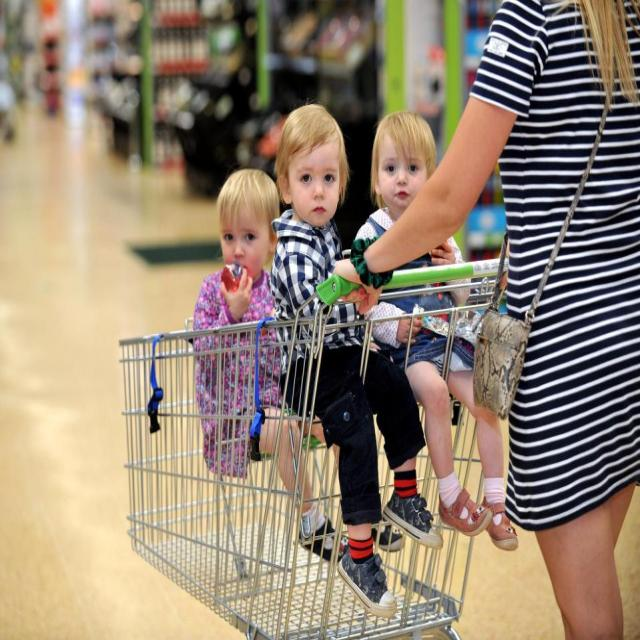Person: (342, 0, 640, 640), (272, 106, 444, 611), (350, 108, 520, 551), (190, 168, 346, 560)
